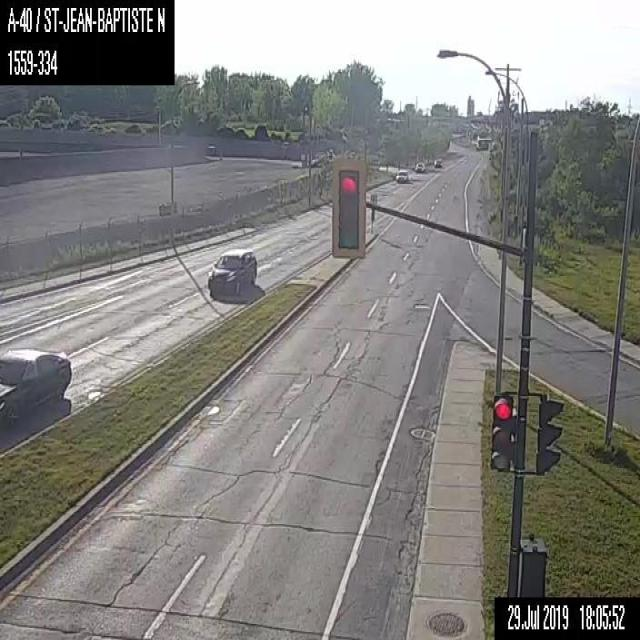vehicle: (0, 346, 72, 426), (207, 249, 256, 297), (395, 169, 408, 181), (414, 161, 424, 171), (433, 157, 443, 166)
